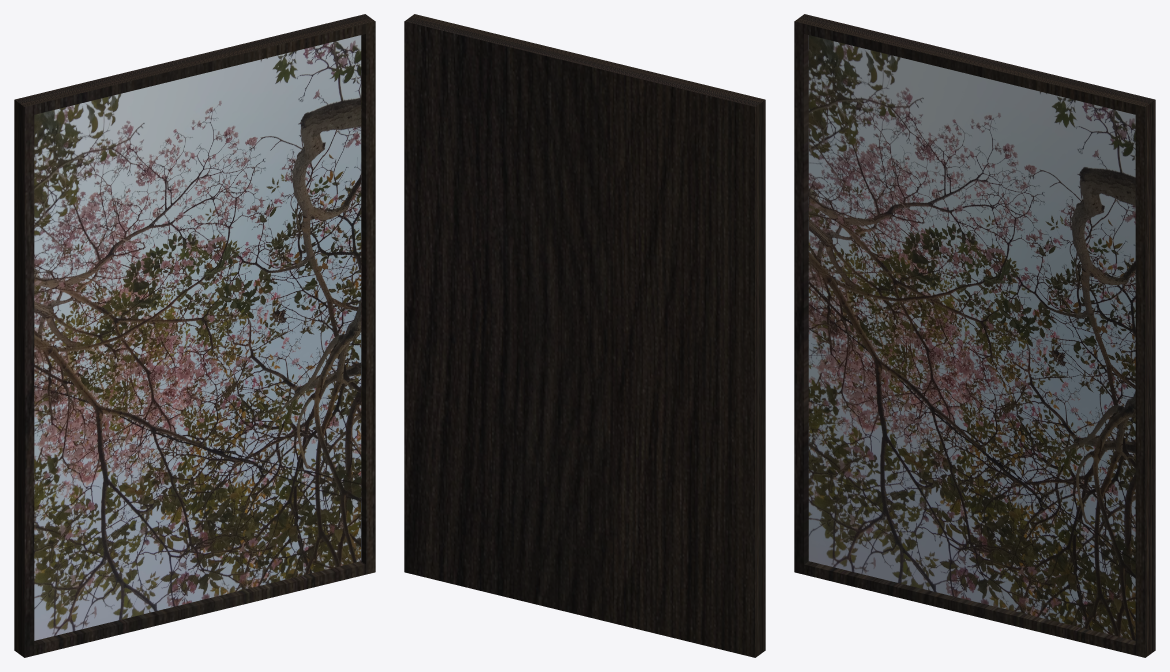
The model's file is foto ruang tengah 1.fbx.
3 views of the same model, side by side, from view 1: azimuth 30°, elevation 25°; view 2: azimuth 150°, elevation 25°; view 3: azimuth 330°, elevation 25° (orthographic).
Visible parts, largest first — view 1: Cube.036, Cube.026; view 2: Cube.026; view 3: Cube.036, Cube.026.
Part boxes in pixels (x1=…): Cube.036: x1=34, y1=35, x2=361, y2=640; Cube.026: x1=14, y1=14, x2=375, y2=657; Cube.026: x1=404, y1=14, x2=765, y2=657; Cube.036: x1=808, y1=35, x2=1135, y2=640; Cube.026: x1=794, y1=14, x2=1155, y2=657.
Size of the model in its own units: 200 by 300 by 10.
2 materials, 2 textured.
